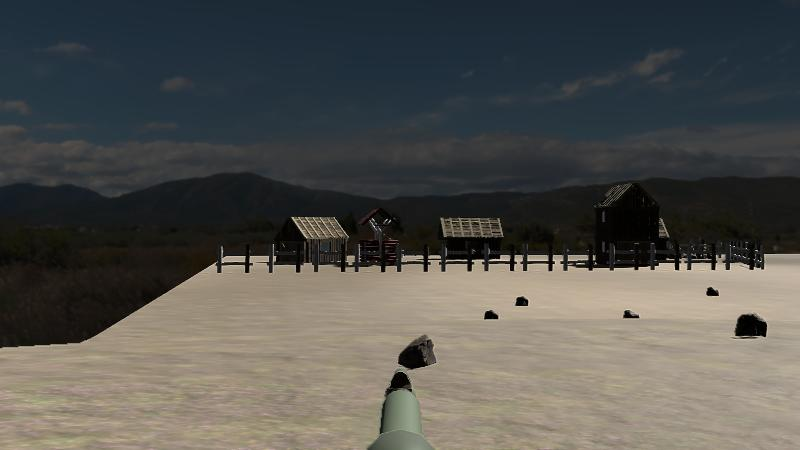House: (593, 180, 661, 268), (277, 216, 349, 264), (440, 217, 503, 261)
